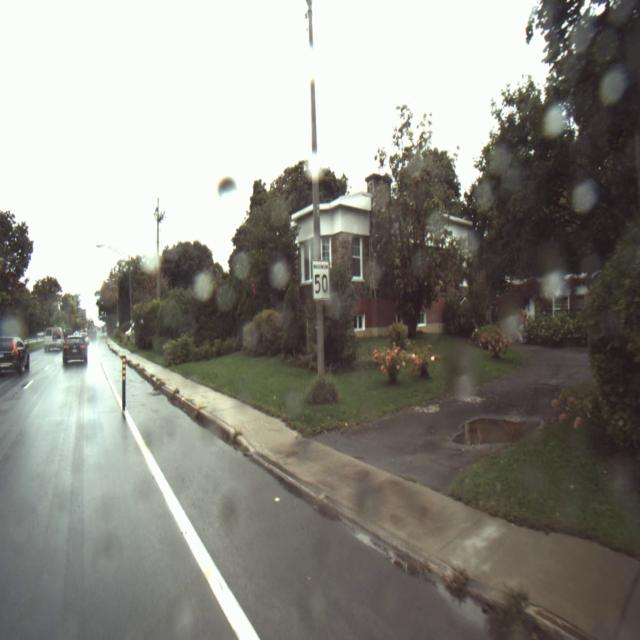car: (1, 336, 30, 376), (64, 334, 88, 367), (43, 328, 61, 354)
